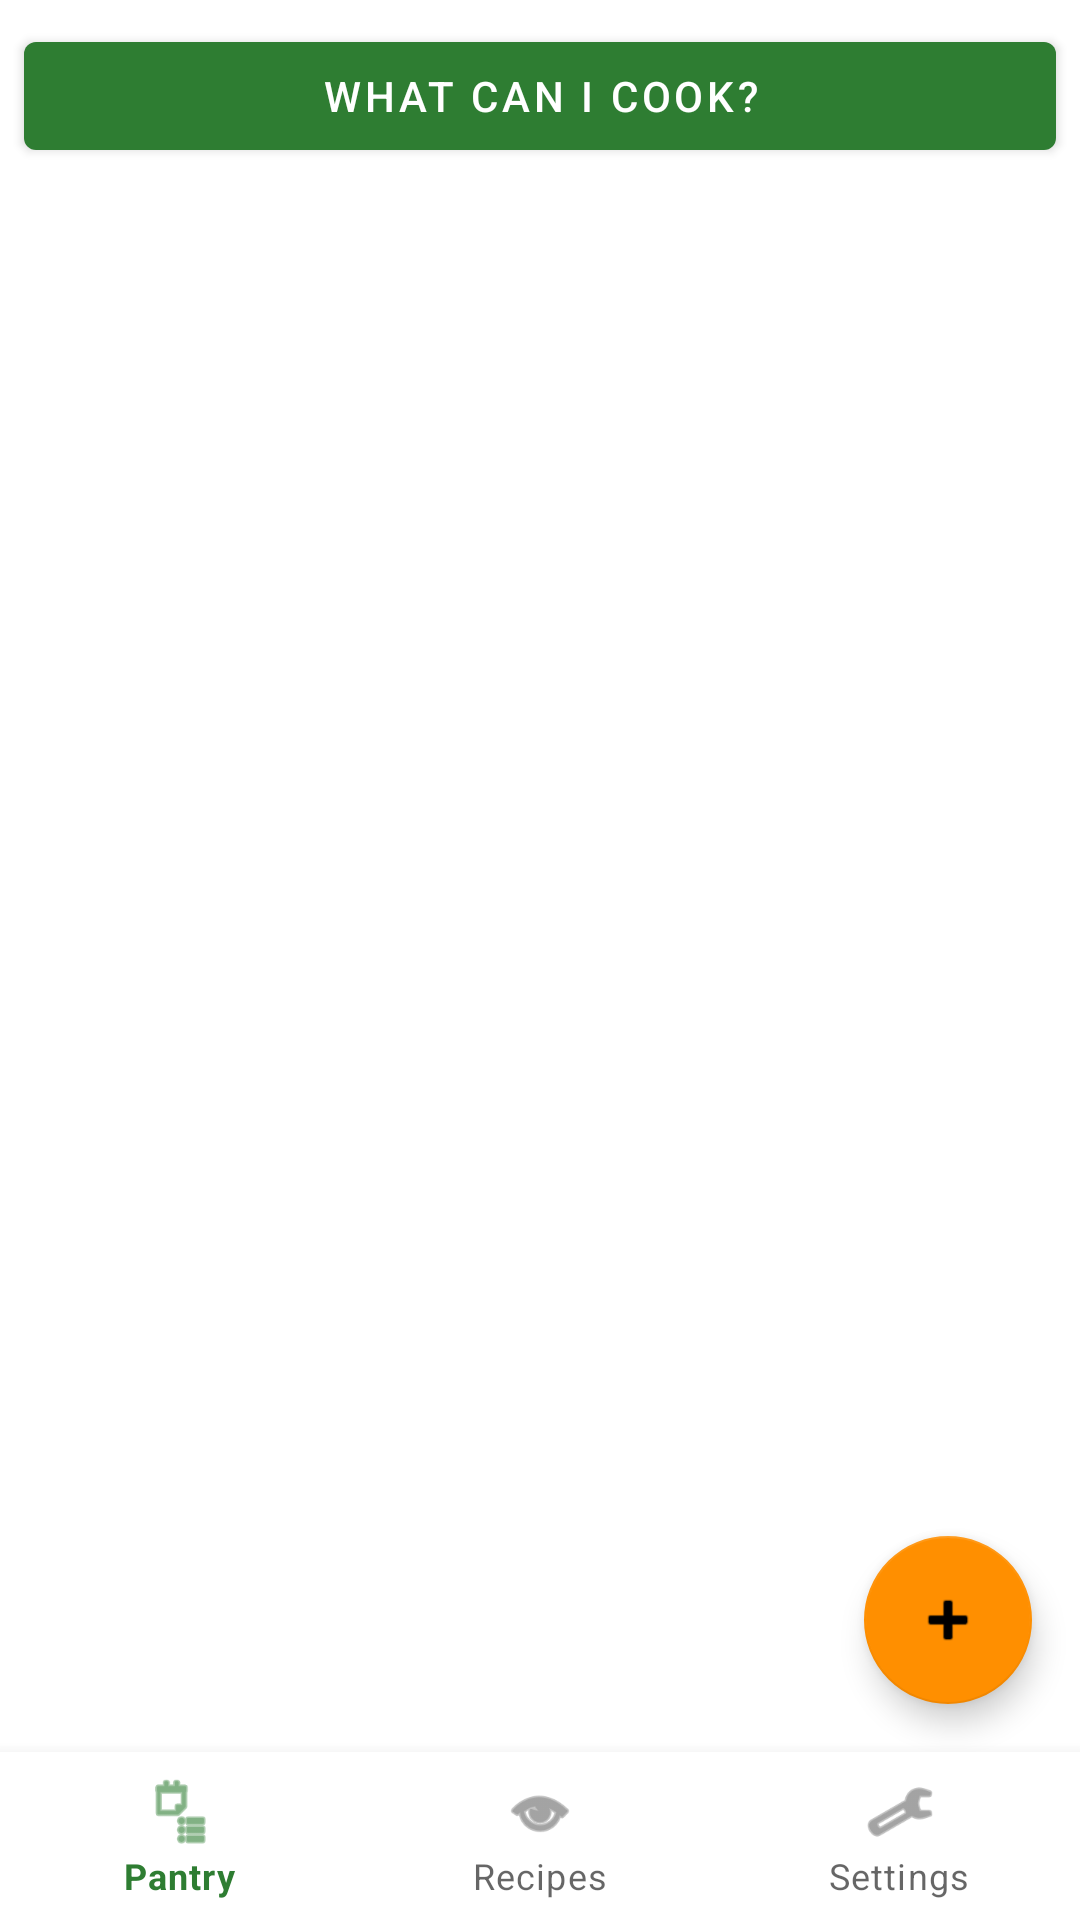

Icon click points for this 1080px×1920px phone screenshot, format (x=x, y=y):
Add ingredient: (x=948, y=1620)
